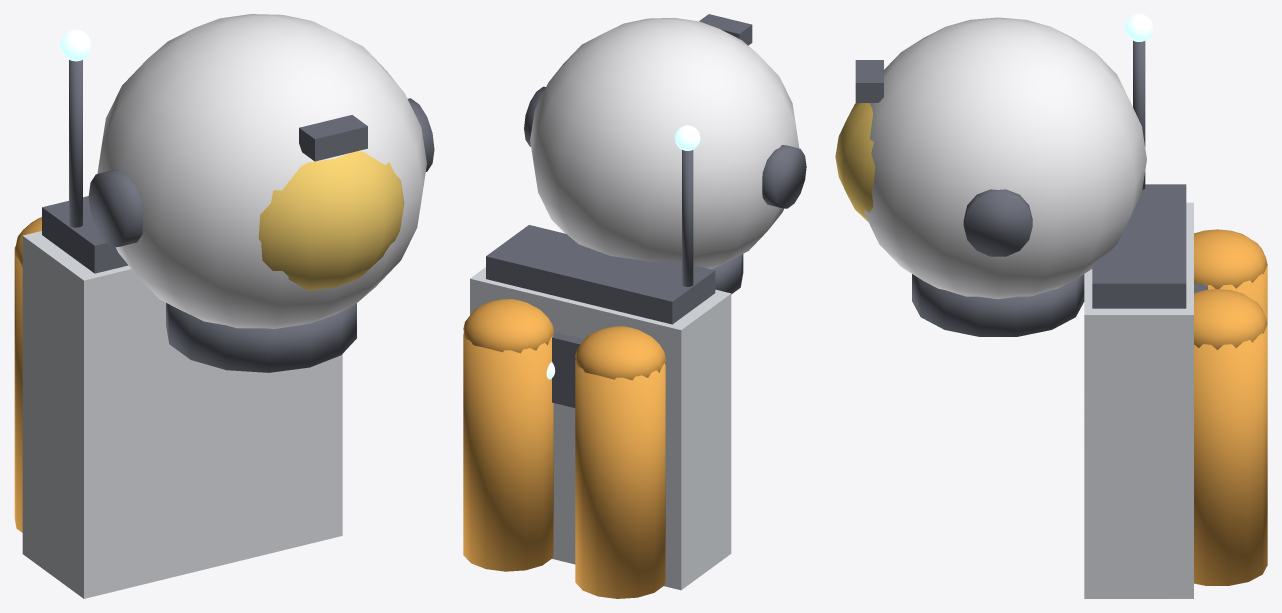
The model's file is TrajeAstronauta.fbx.
The picture shows the model from 3 angles, left to right: view 1: azimuth 30°, elevation 25°; view 2: azimuth 150°, elevation 25°; view 3: azimuth 270°, elevation 25°; orthographic projection. The views are drawn at different scales.
Parts seen in each view (by area): view 1: Mochila, Casco, Visor, Tanques; view 2: Casco, Tanques, Mochila; view 3: Casco, Mochila, Tanques, Visor.
Boxes of the visible parts, x1=… form: Mochila: x1=22, y1=30, x2=342, y2=598; Casco: x1=88, y1=14, x2=434, y2=372; Visor: x1=258, y1=151, x2=404, y2=290; Tanques: x1=14, y1=217, x2=41, y2=532; Casco: x1=524, y1=14, x2=806, y2=294; Tanques: x1=463, y1=299, x2=666, y2=598; Mochila: x1=470, y1=125, x2=731, y2=590; Casco: x1=855, y1=17, x2=1146, y2=336; Mochila: x1=1084, y1=14, x2=1207, y2=598; Tanques: x1=1194, y1=229, x2=1267, y2=585; Visor: x1=835, y1=103, x2=875, y2=221.
Size of the model in its own units: 202 by 360 by 276.
